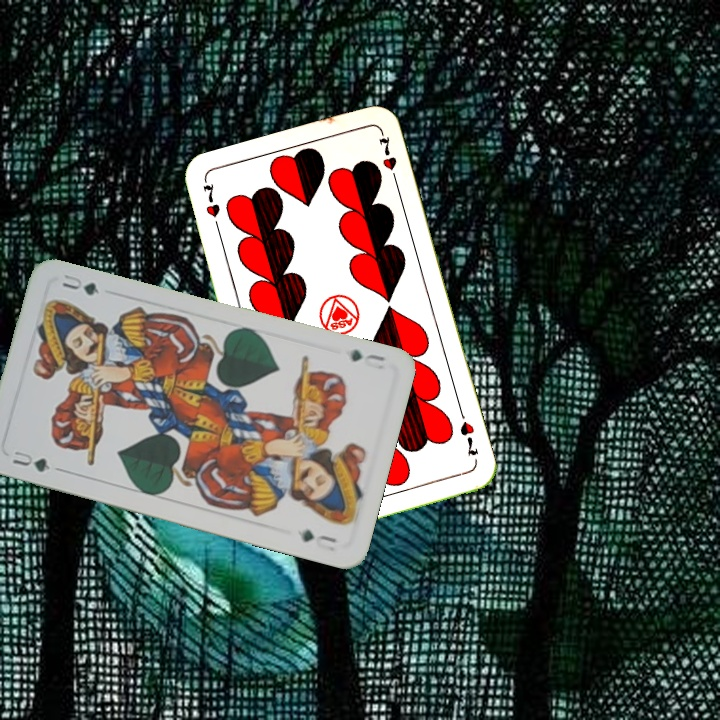GU: (8, 446, 53, 475), (346, 345, 388, 372)
H7: (199, 178, 223, 236), (456, 417, 481, 459)
